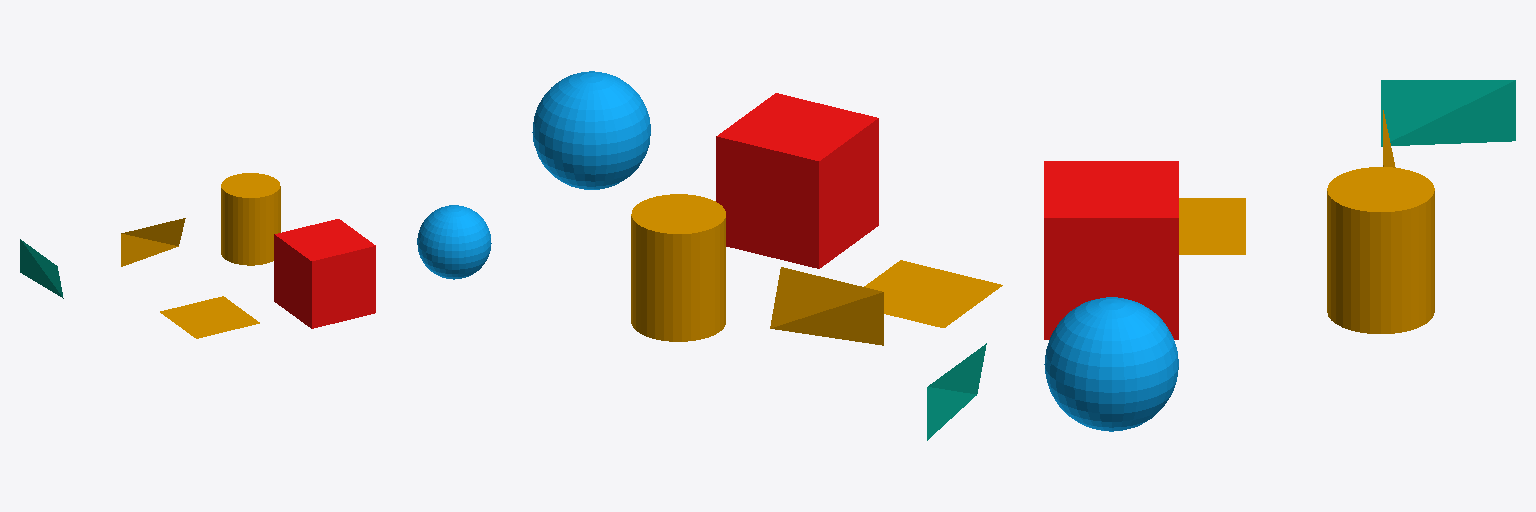
URDF robot description (rich_material_fixture):
<robot name="rich_material_fixture"><link name="base">
  <visual><geometry><mesh filename="materials/textured.obj"/></geometry></visual>
  <visual><origin xyz="0 2 0"/><geometry><mesh filename="materials/textured.dae"/></geometry></visual>
  <visual><origin xyz="2 0 0.5"/><geometry><box size="1 1 1"/></geometry><material><color rgba="1 0.1 0.1 0.5"/></material></visual>
  <visual><origin xyz="2 2 0.5"/><geometry><cylinder radius="0.4" length="1"/></geometry><material><texture filename="materials/textures/checker.png"/></material></visual>
  <visual><origin xyz="4 0 0.5"/><geometry><sphere radius="0.5"/></geometry><material><color rgba="0.1 0.7 1 1"/></material></visual>
</link></robot>

--- Facts derived from the render (not from the file) ---
Views: 3 orthographic renders of the robot side by side, from view 1: azimuth 30°, elevation 25°; view 2: azimuth 150°, elevation 25°; view 3: azimuth 270°, elevation 25°.
Model rich_material_fixture with 1 links and 0 joints (none), rooted at base, posed every joint at zero.
Visible links, largest first — view 1: base; view 2: base; view 3: base.
Link boxes in pixels (box(x1,y1,x2,y2)): base: box(20, 173, 491, 338); base: box(532, 71, 1002, 440); base: box(1044, 80, 1515, 431).
Size in the robot's own frame: 5.49 by 3.5 by 1 metres.
Meshes: 2 distinct files referenced, 2 mesh visuals loaded (1 Collada DAE, 1 OBJ).
